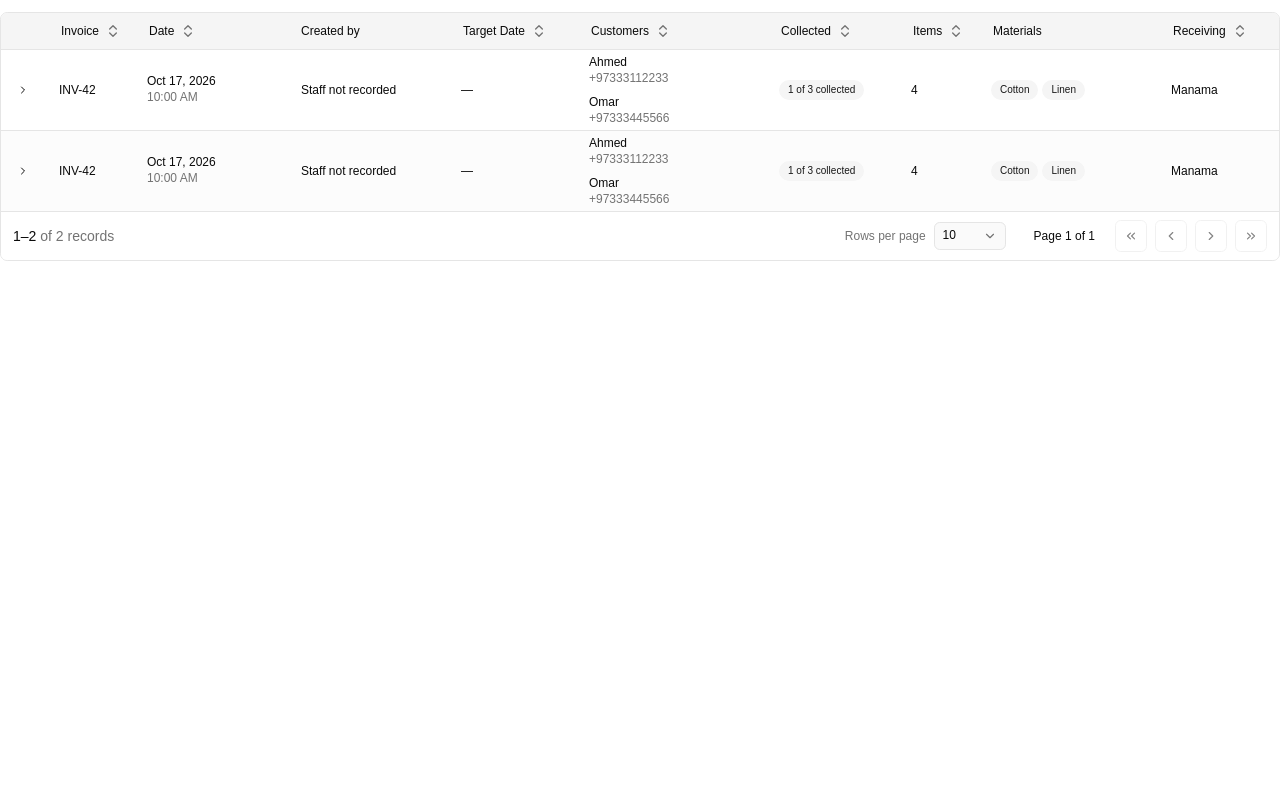
Test case: Invoice table › keeps expansion on the same invoice when the rows are reordered
Click the 1st button named "Show orders".
click(23, 90)  # box [11, 78, 35, 102]
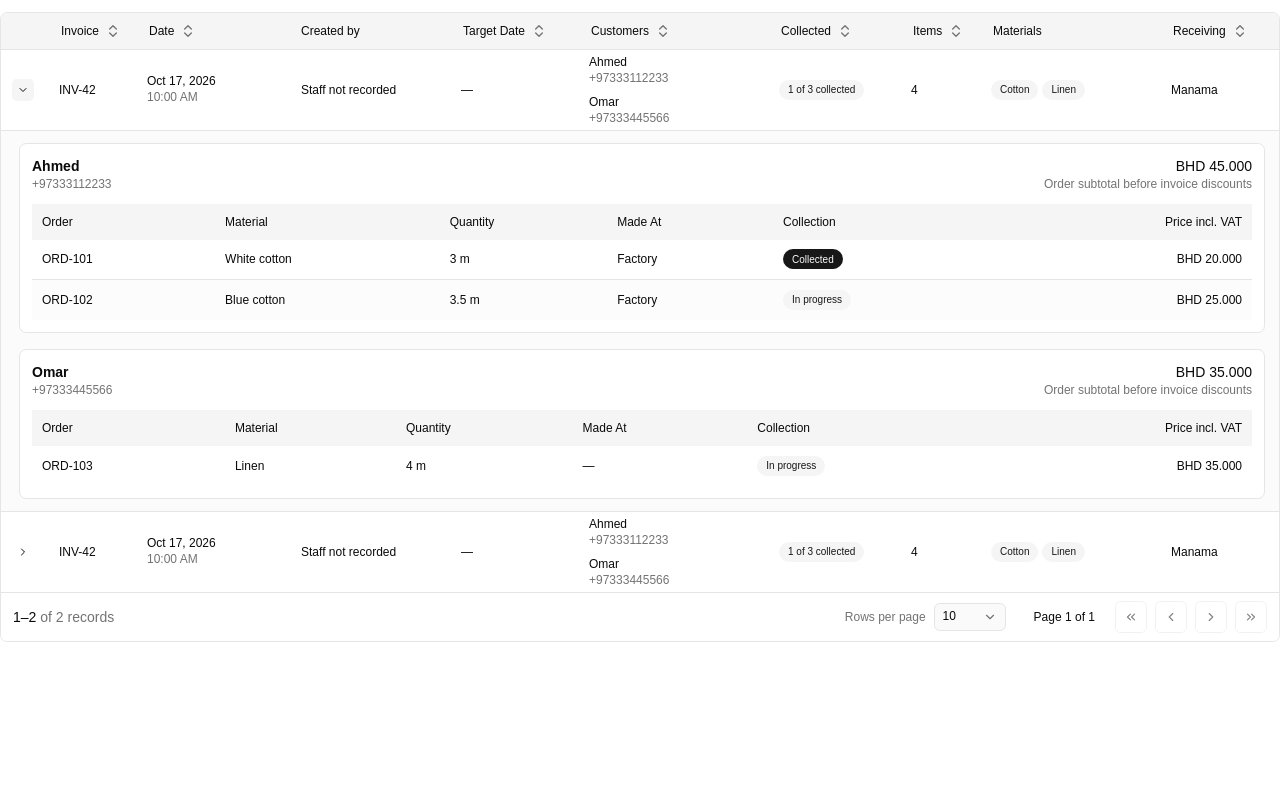
expect the link "ORD-101" is shown: met, box [42, 251, 93, 267]
